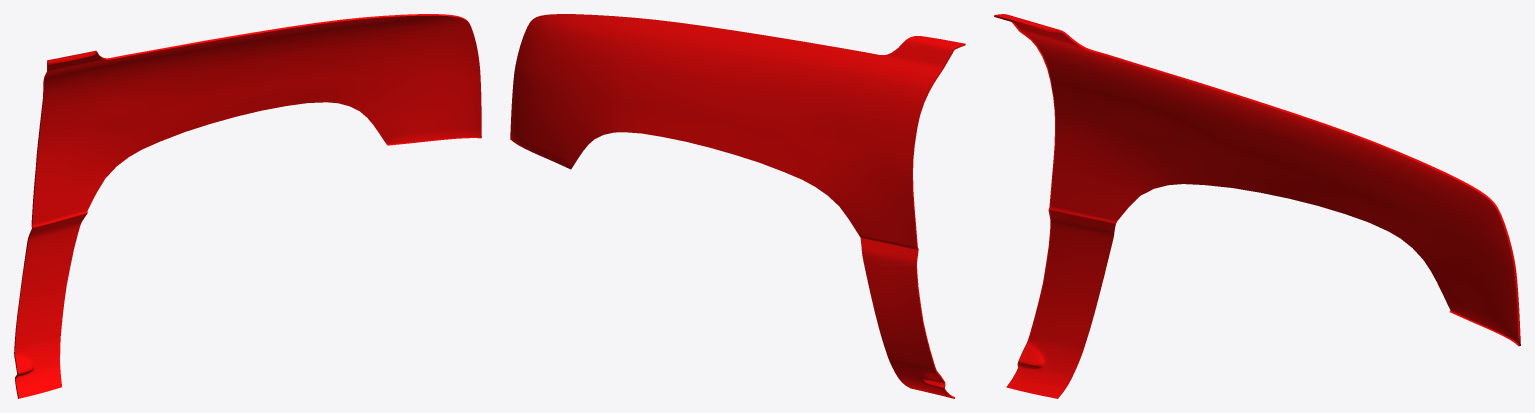
3 views of the same model, side by side, from view 1: azimuth 30°, elevation 25°; view 2: azimuth 150°, elevation 25°; view 3: azimuth 330°, elevation 25° (orthographic). The views are drawn at different scales.
Visible parts, largest first — view 1: U805_4A_121B_L_U805_4A_121B_L_1_DaS, U805_4A_121B_L_U805_4A_121B_L_1_DaS_E; view 2: U805_4A_121B_L_U805_4A_121B_L_1_DaS, U805_4A_121B_L_U805_4A_121B_L_1_DaS_E; view 3: U805_4A_121B_L_U805_4A_121B_L_1_DaS, U805_4A_121B_L_U805_4A_121B_L_1_DaS_E.
Part boxes in pixels (x1,y1,x2,y2): U805_4A_121B_L_U805_4A_121B_L_1_DaS: (15,15,481,398); U805_4A_121B_L_U805_4A_121B_L_1_DaS_E: (14,14,481,398); U805_4A_121B_L_U805_4A_121B_L_1_DaS: (510,14,964,398); U805_4A_121B_L_U805_4A_121B_L_1_DaS_E: (860,44,965,398); U805_4A_121B_L_U805_4A_121B_L_1_DaS: (995,14,1518,398); U805_4A_121B_L_U805_4A_121B_L_1_DaS_E: (994,15,1520,387).
Bounding box in the file's own units: 112 × 81.17 × 15.85.
